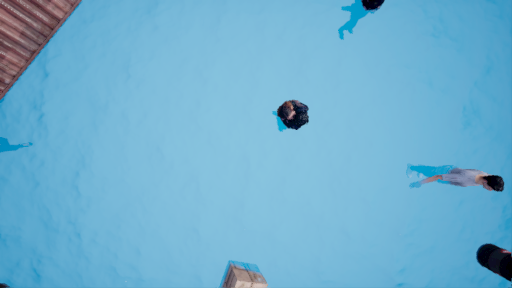person: (403, 160, 506, 201), (266, 100, 313, 137)
